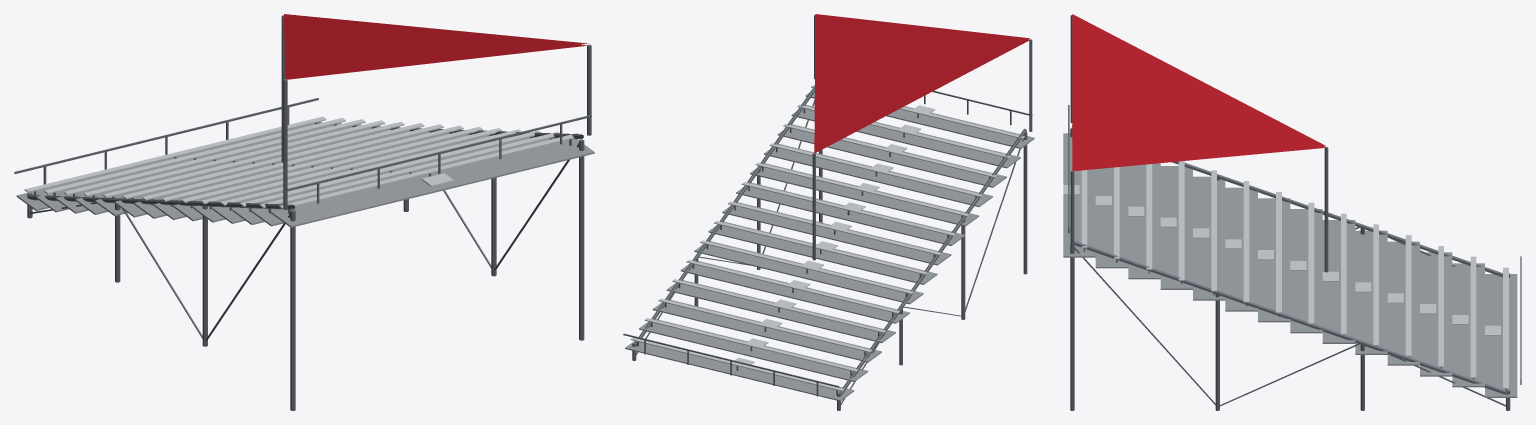
Rendered from grada-austin.glb.
3 views of the same model, side by side, from view 1: azimuth 30°, elevation 25°; view 2: azimuth 150°, elevation 25°; view 3: azimuth 270°, elevation 25° (orthographic). The views are drawn at different scales.
Visible parts, largest first — view 1: grada-austin; view 2: grada-austin; view 3: grada-austin.
Boxes of the visible parts, bbox=[...] form: grada-austin: bbox=[14, 14, 594, 410]; grada-austin: bbox=[623, 14, 1034, 410]; grada-austin: bbox=[1063, 14, 1521, 410].
Bounding box in the file's own units: 16.17 × 16.8 × 25.24.
